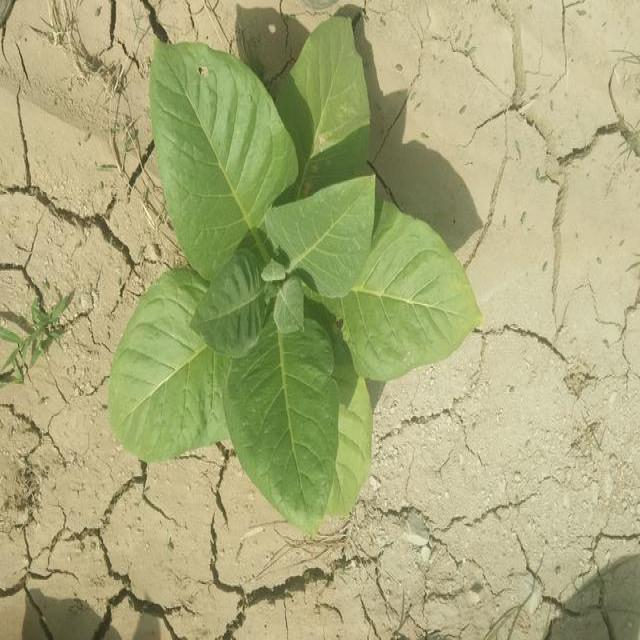crop: (121, 28, 476, 535)
